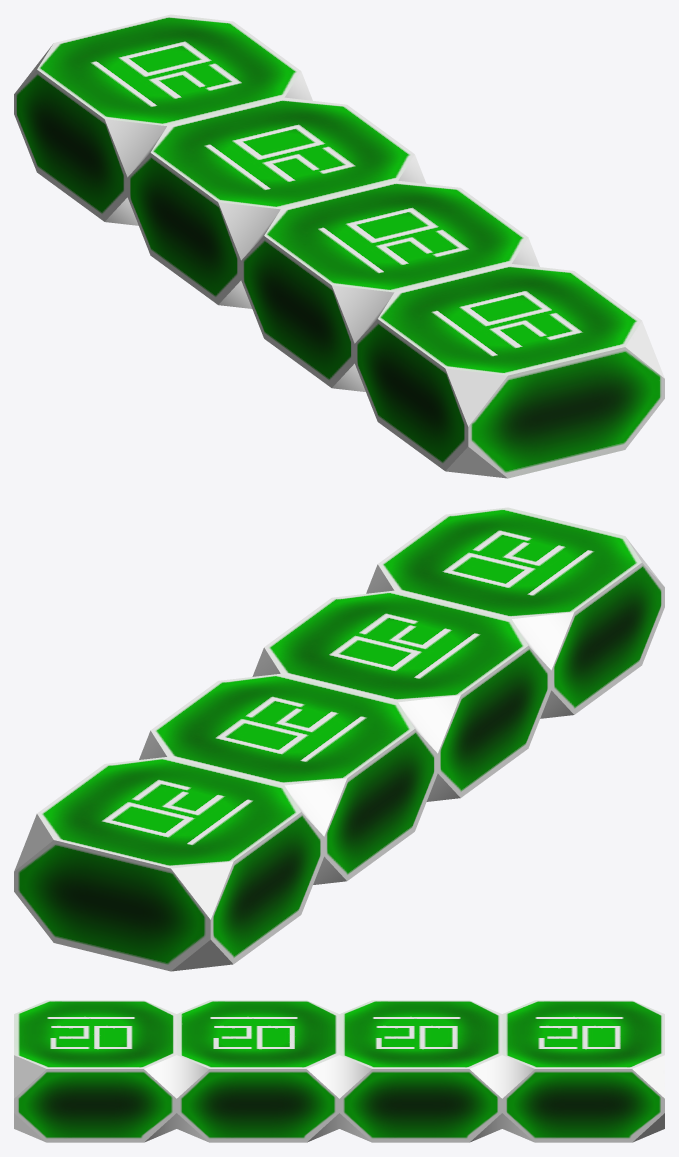
The model's file is MG-ChJ-CS-02BianKuai-4.FBX.
3 views of the same model, one above another, from view 1: azimuth 30°, elevation 25°; view 2: azimuth 150°, elevation 25°; view 3: azimuth 270°, elevation 25° (orthographic). The views are drawn at different scales.
Visible parts, largest first — view 1: MG-ChJ-CS-02BianKuai-4; view 2: MG-ChJ-CS-02BianKuai-4; view 3: MG-ChJ-CS-02BianKuai-4.
Boxes of the visible parts, box(x1,y1,x2,y2) form: MG-ChJ-CS-02BianKuai-4: box(14, 14, 664, 478); MG-ChJ-CS-02BianKuai-4: box(14, 507, 664, 971); MG-ChJ-CS-02BianKuai-4: box(14, 1000, 664, 1142).
Size of the model in its own units: 39.37 by 19.69 by 157.
